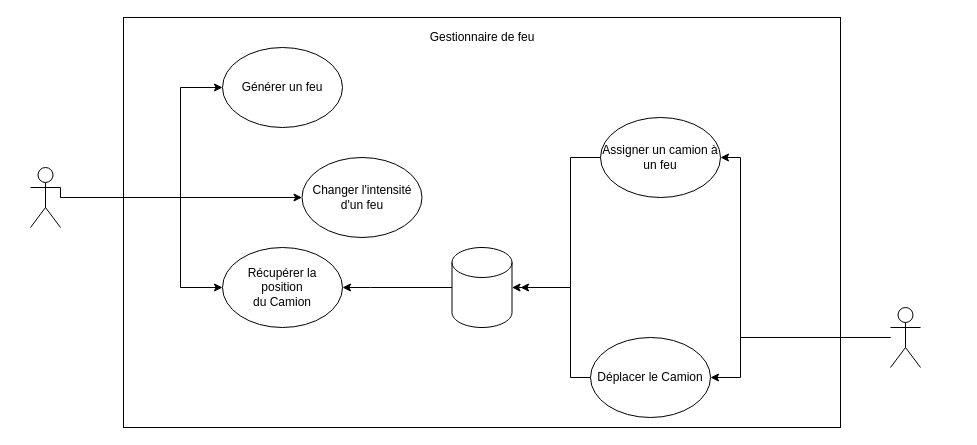
Image size: 977x445. Some labels were removed from this diagram. Here are the shapes that lost their labels. From the top down, the centre of each, then its label:
At point (45, 197): "Simulateur".
At point (481, 287): "BDD".
At point (905, 337): "EmergencyManager".
